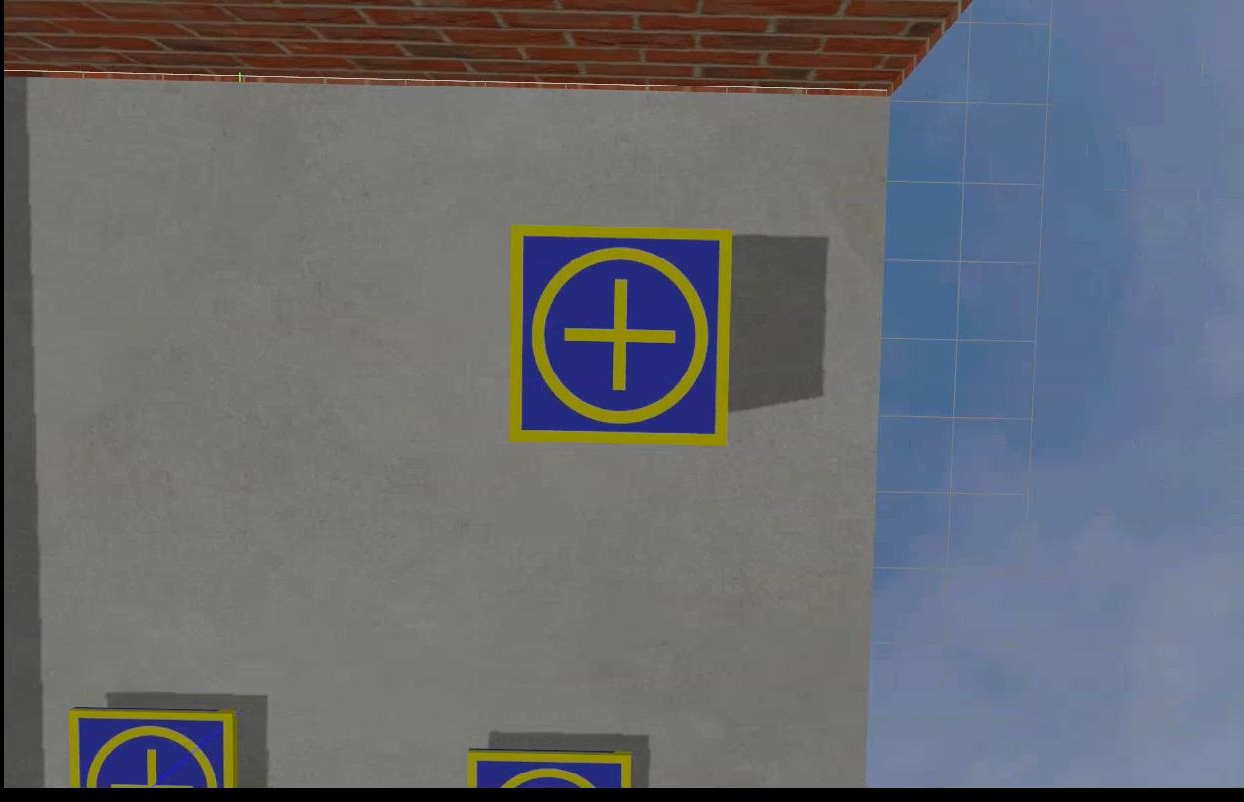small_base: (507, 229, 730, 450), (68, 707, 238, 791), (464, 748, 633, 792)
